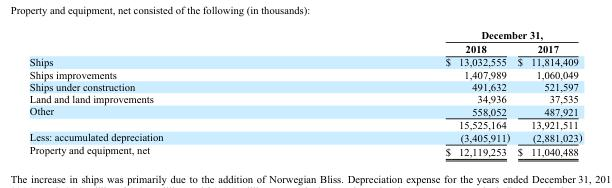table: (28, 28, 581, 156)
table column: (28, 28, 303, 156), (303, 28, 513, 156), (513, 28, 581, 156)
table column header: (28, 28, 581, 55)
table row: (28, 41, 581, 55), (28, 28, 581, 41), (28, 67, 581, 80), (28, 104, 581, 117), (28, 117, 581, 130), (28, 130, 581, 143), (28, 143, 581, 156), (28, 55, 581, 67), (28, 80, 581, 92), (28, 92, 581, 104)
table spanning cell: (303, 28, 581, 41)
